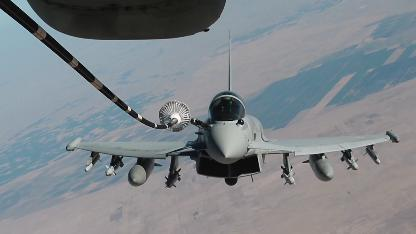E2: (65, 28, 399, 188)
